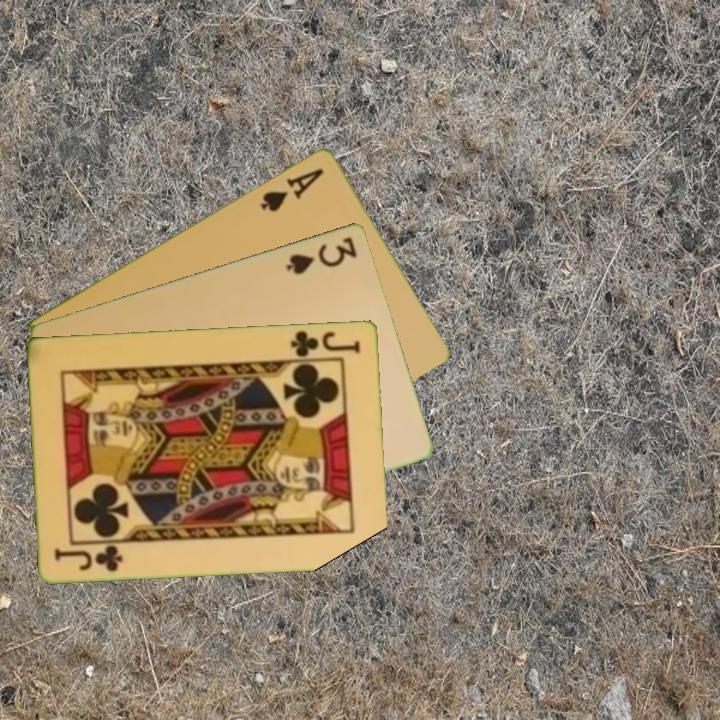3s: (283, 232, 360, 277)
As: (257, 163, 327, 215)
Jc: (288, 327, 364, 359), (51, 542, 126, 574)
